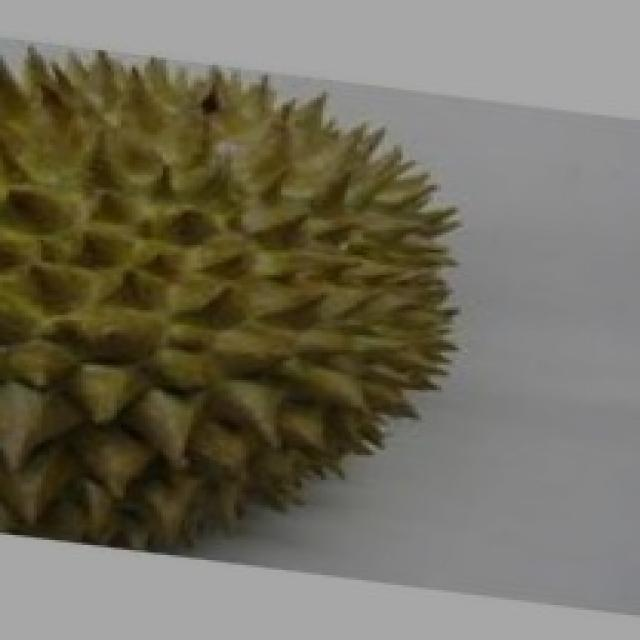fruit: (0, 188, 382, 578)
